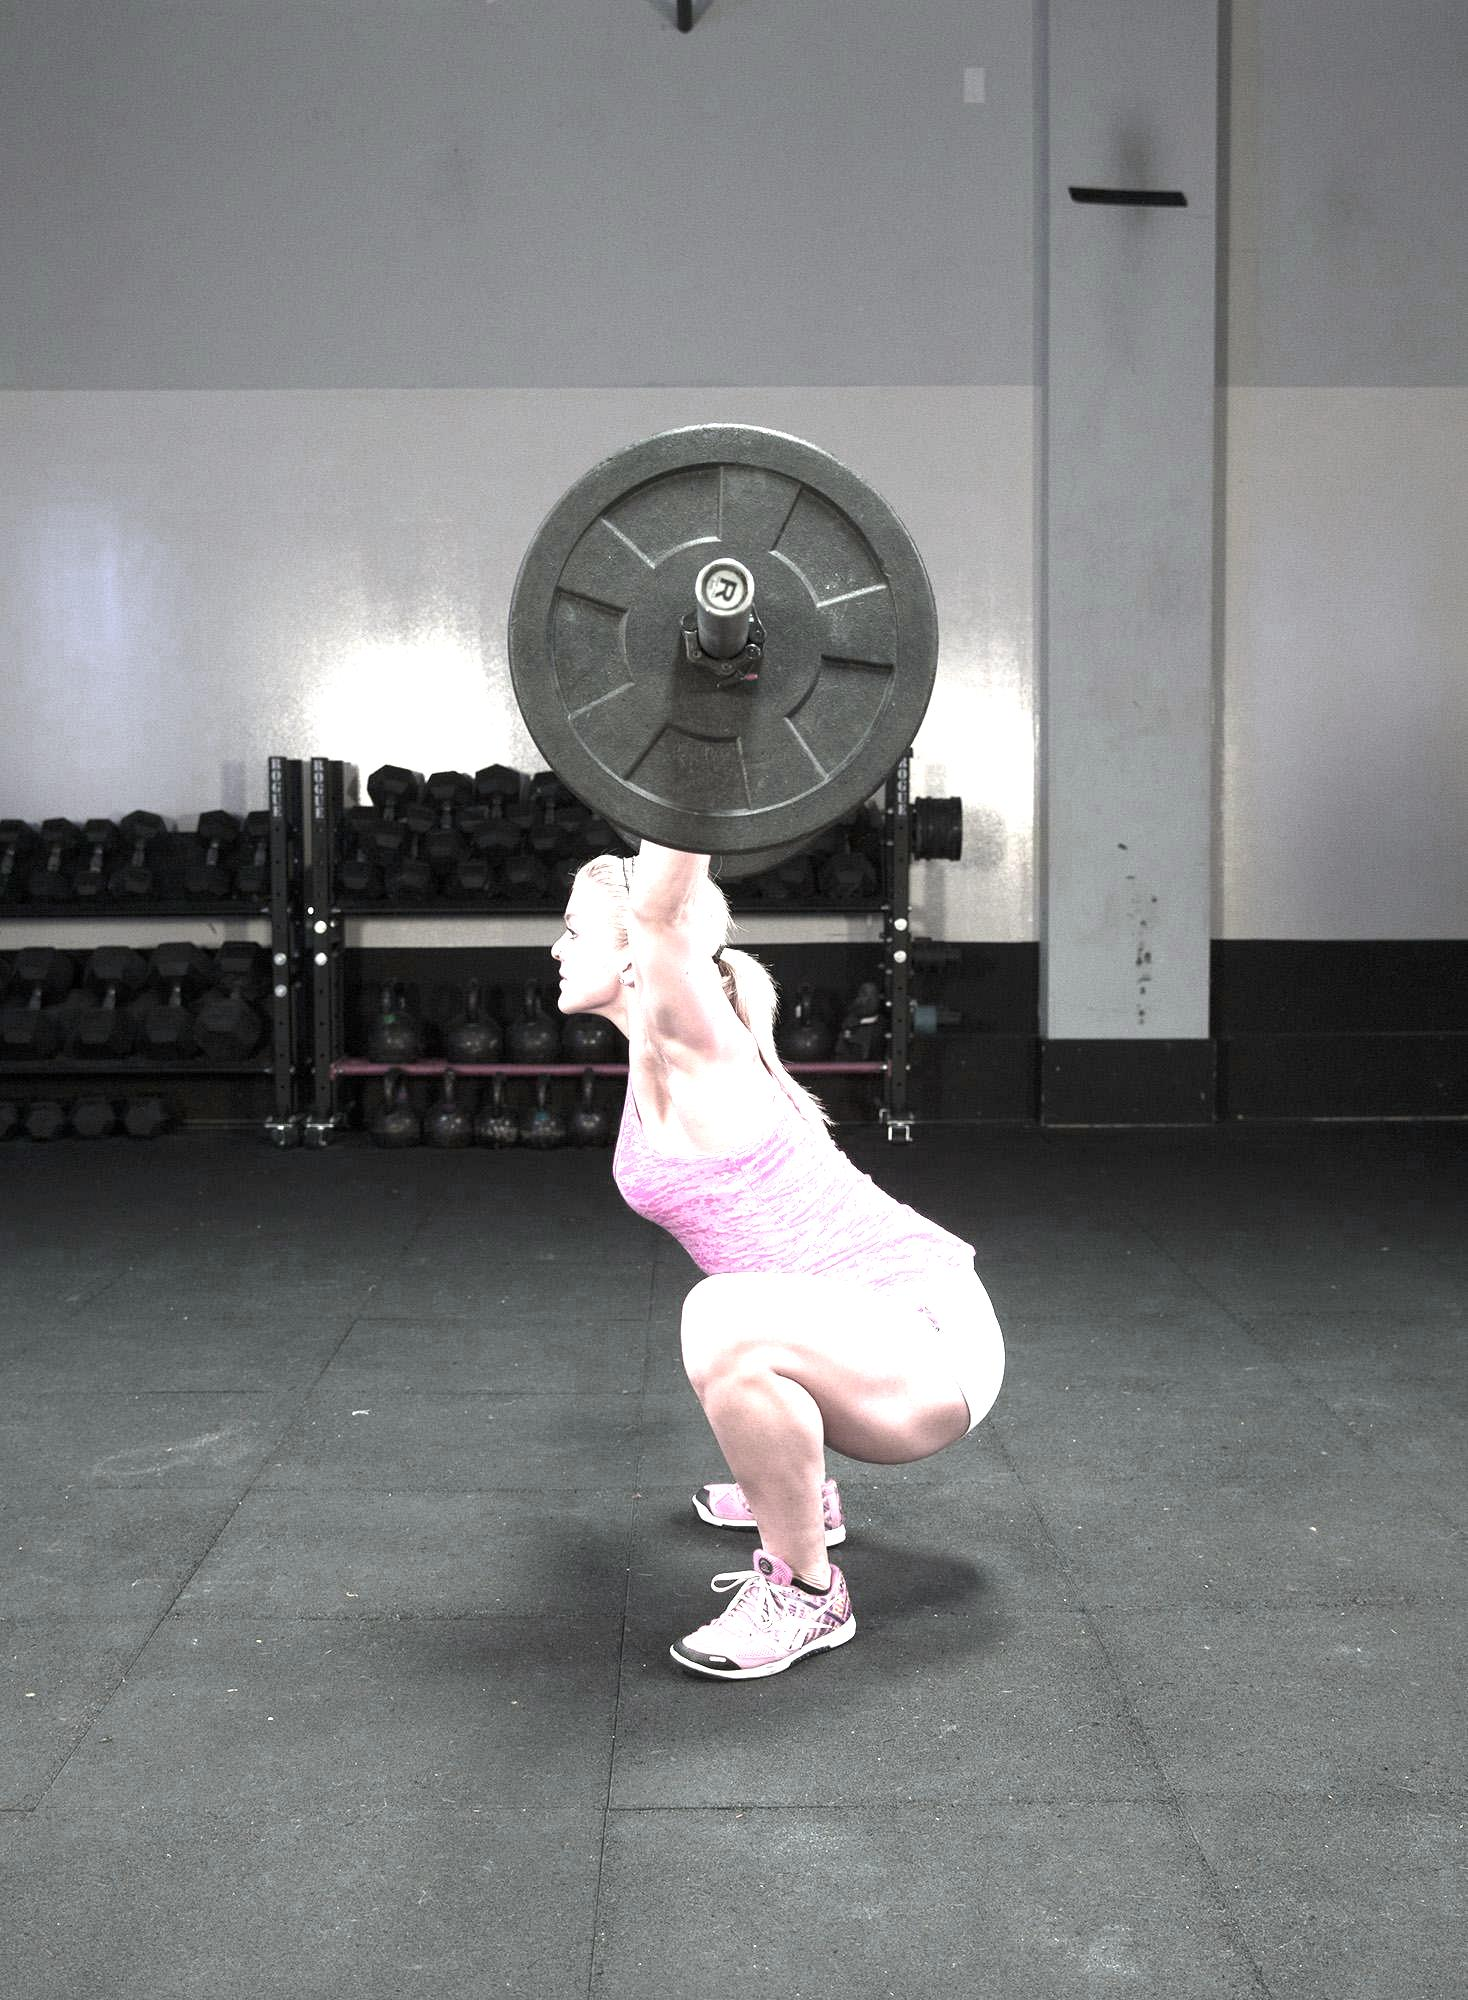Barbell: (691, 550, 764, 620)
